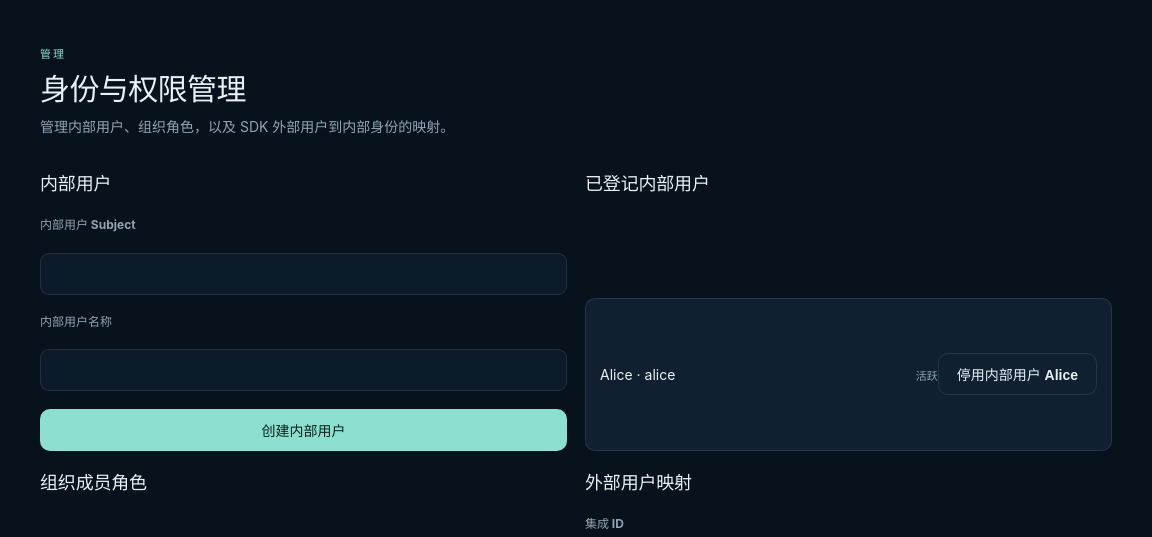
Scenario: Management identity page › disables an internal user with the current version
The width and height of the screenshot is (1152, 537).
Check: the text "Alice · alice" is shown, box top-left (600, 364), bottom-right (675, 385)
Click the button "停用内部用户 Alice". click: [1017, 374]
box: top-left (938, 353), bottom-right (1097, 395)
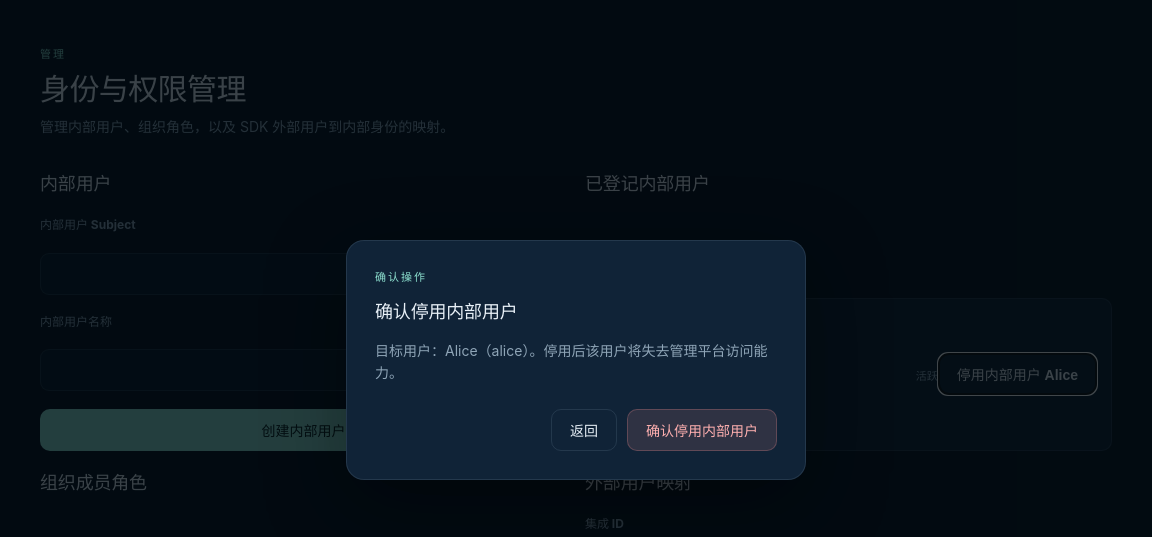
Click the button "确认停用内部用户". click: [702, 430]
box: top-left (627, 409), bottom-right (777, 451)
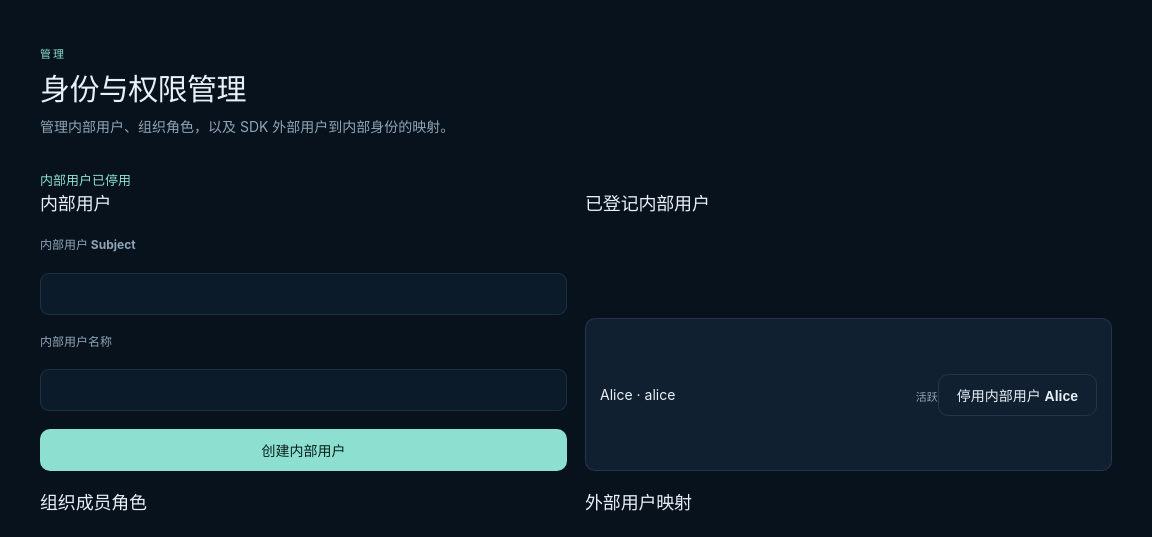
Check: the text "内部用户已停用" is shown, box top-left (40, 172), bottom-right (131, 188)
